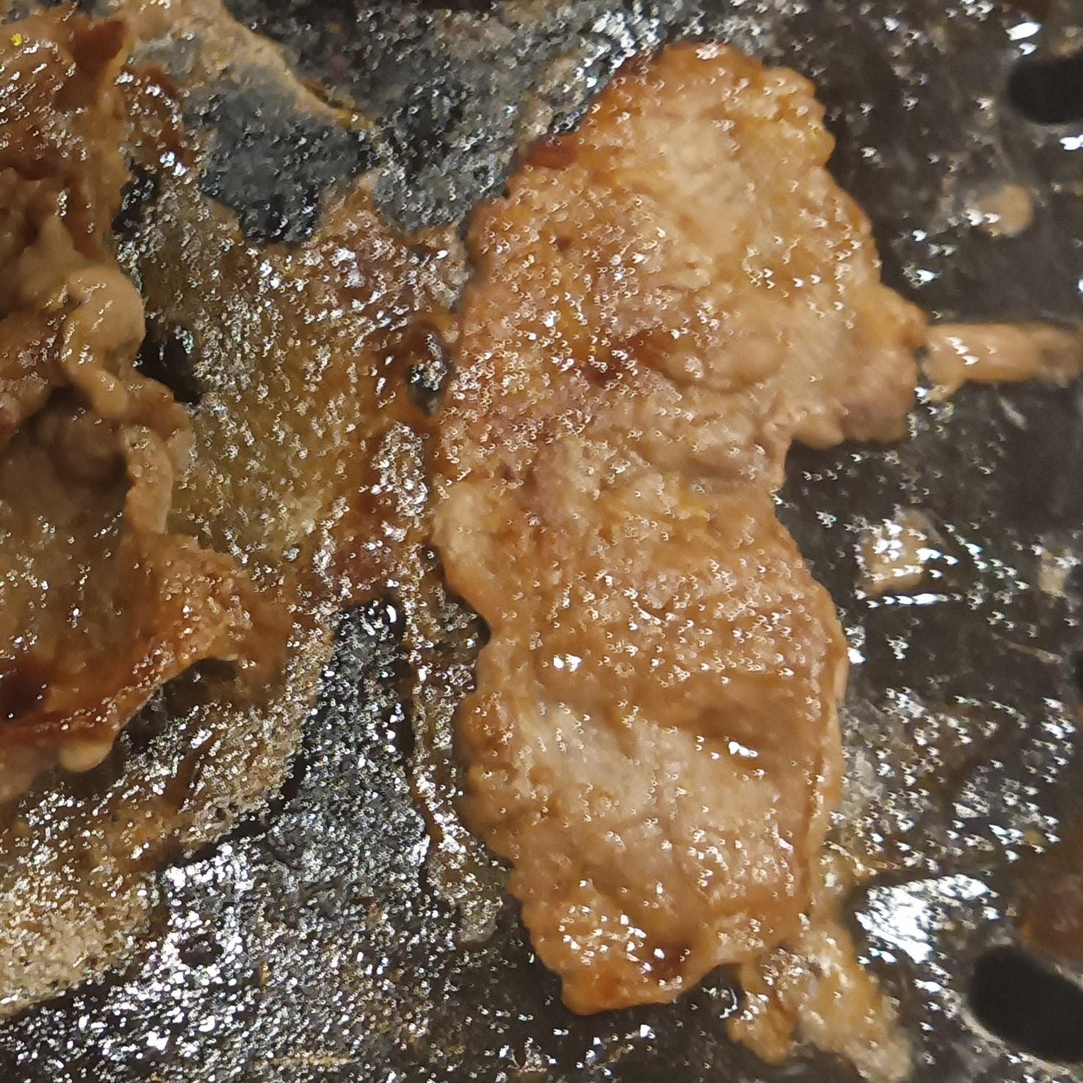Well-Cooked: (429, 40, 929, 1062), (0, 13, 279, 826)
